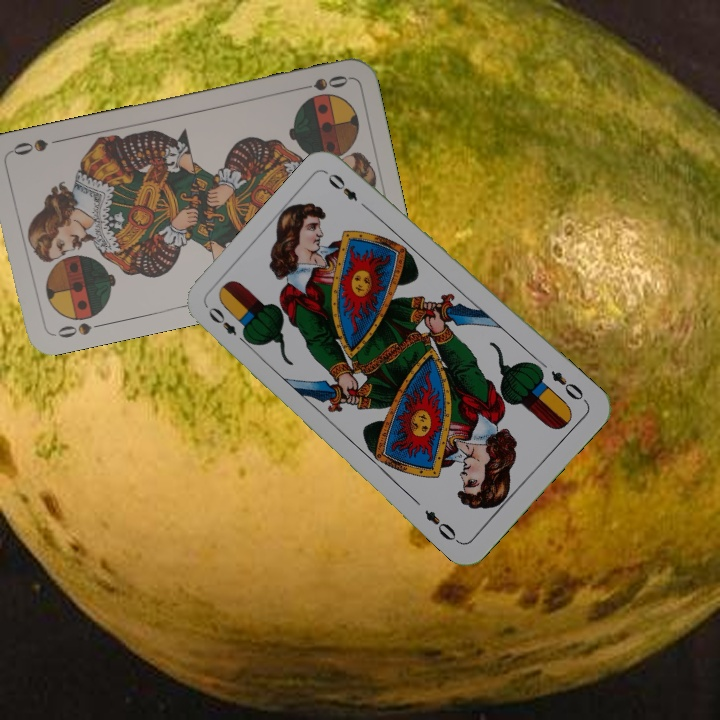EO: (204, 303, 253, 348), (546, 366, 590, 405)
SO: (292, 71, 351, 94), (49, 318, 108, 341)
